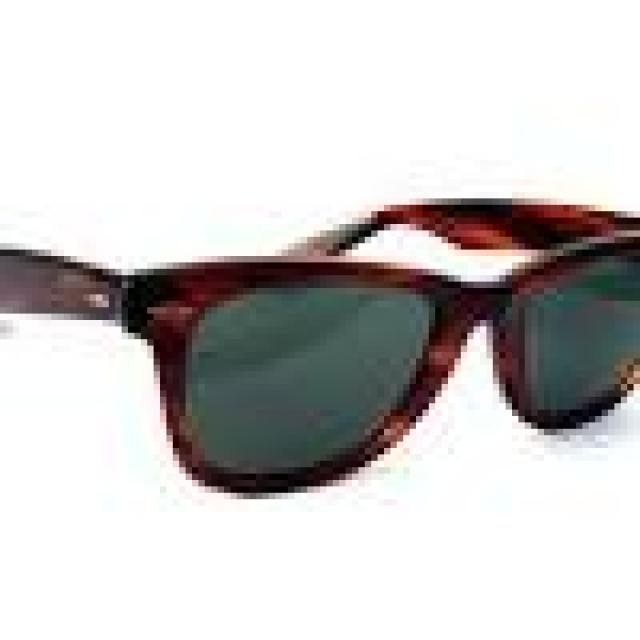sunglasses: (125, 208, 637, 496)
